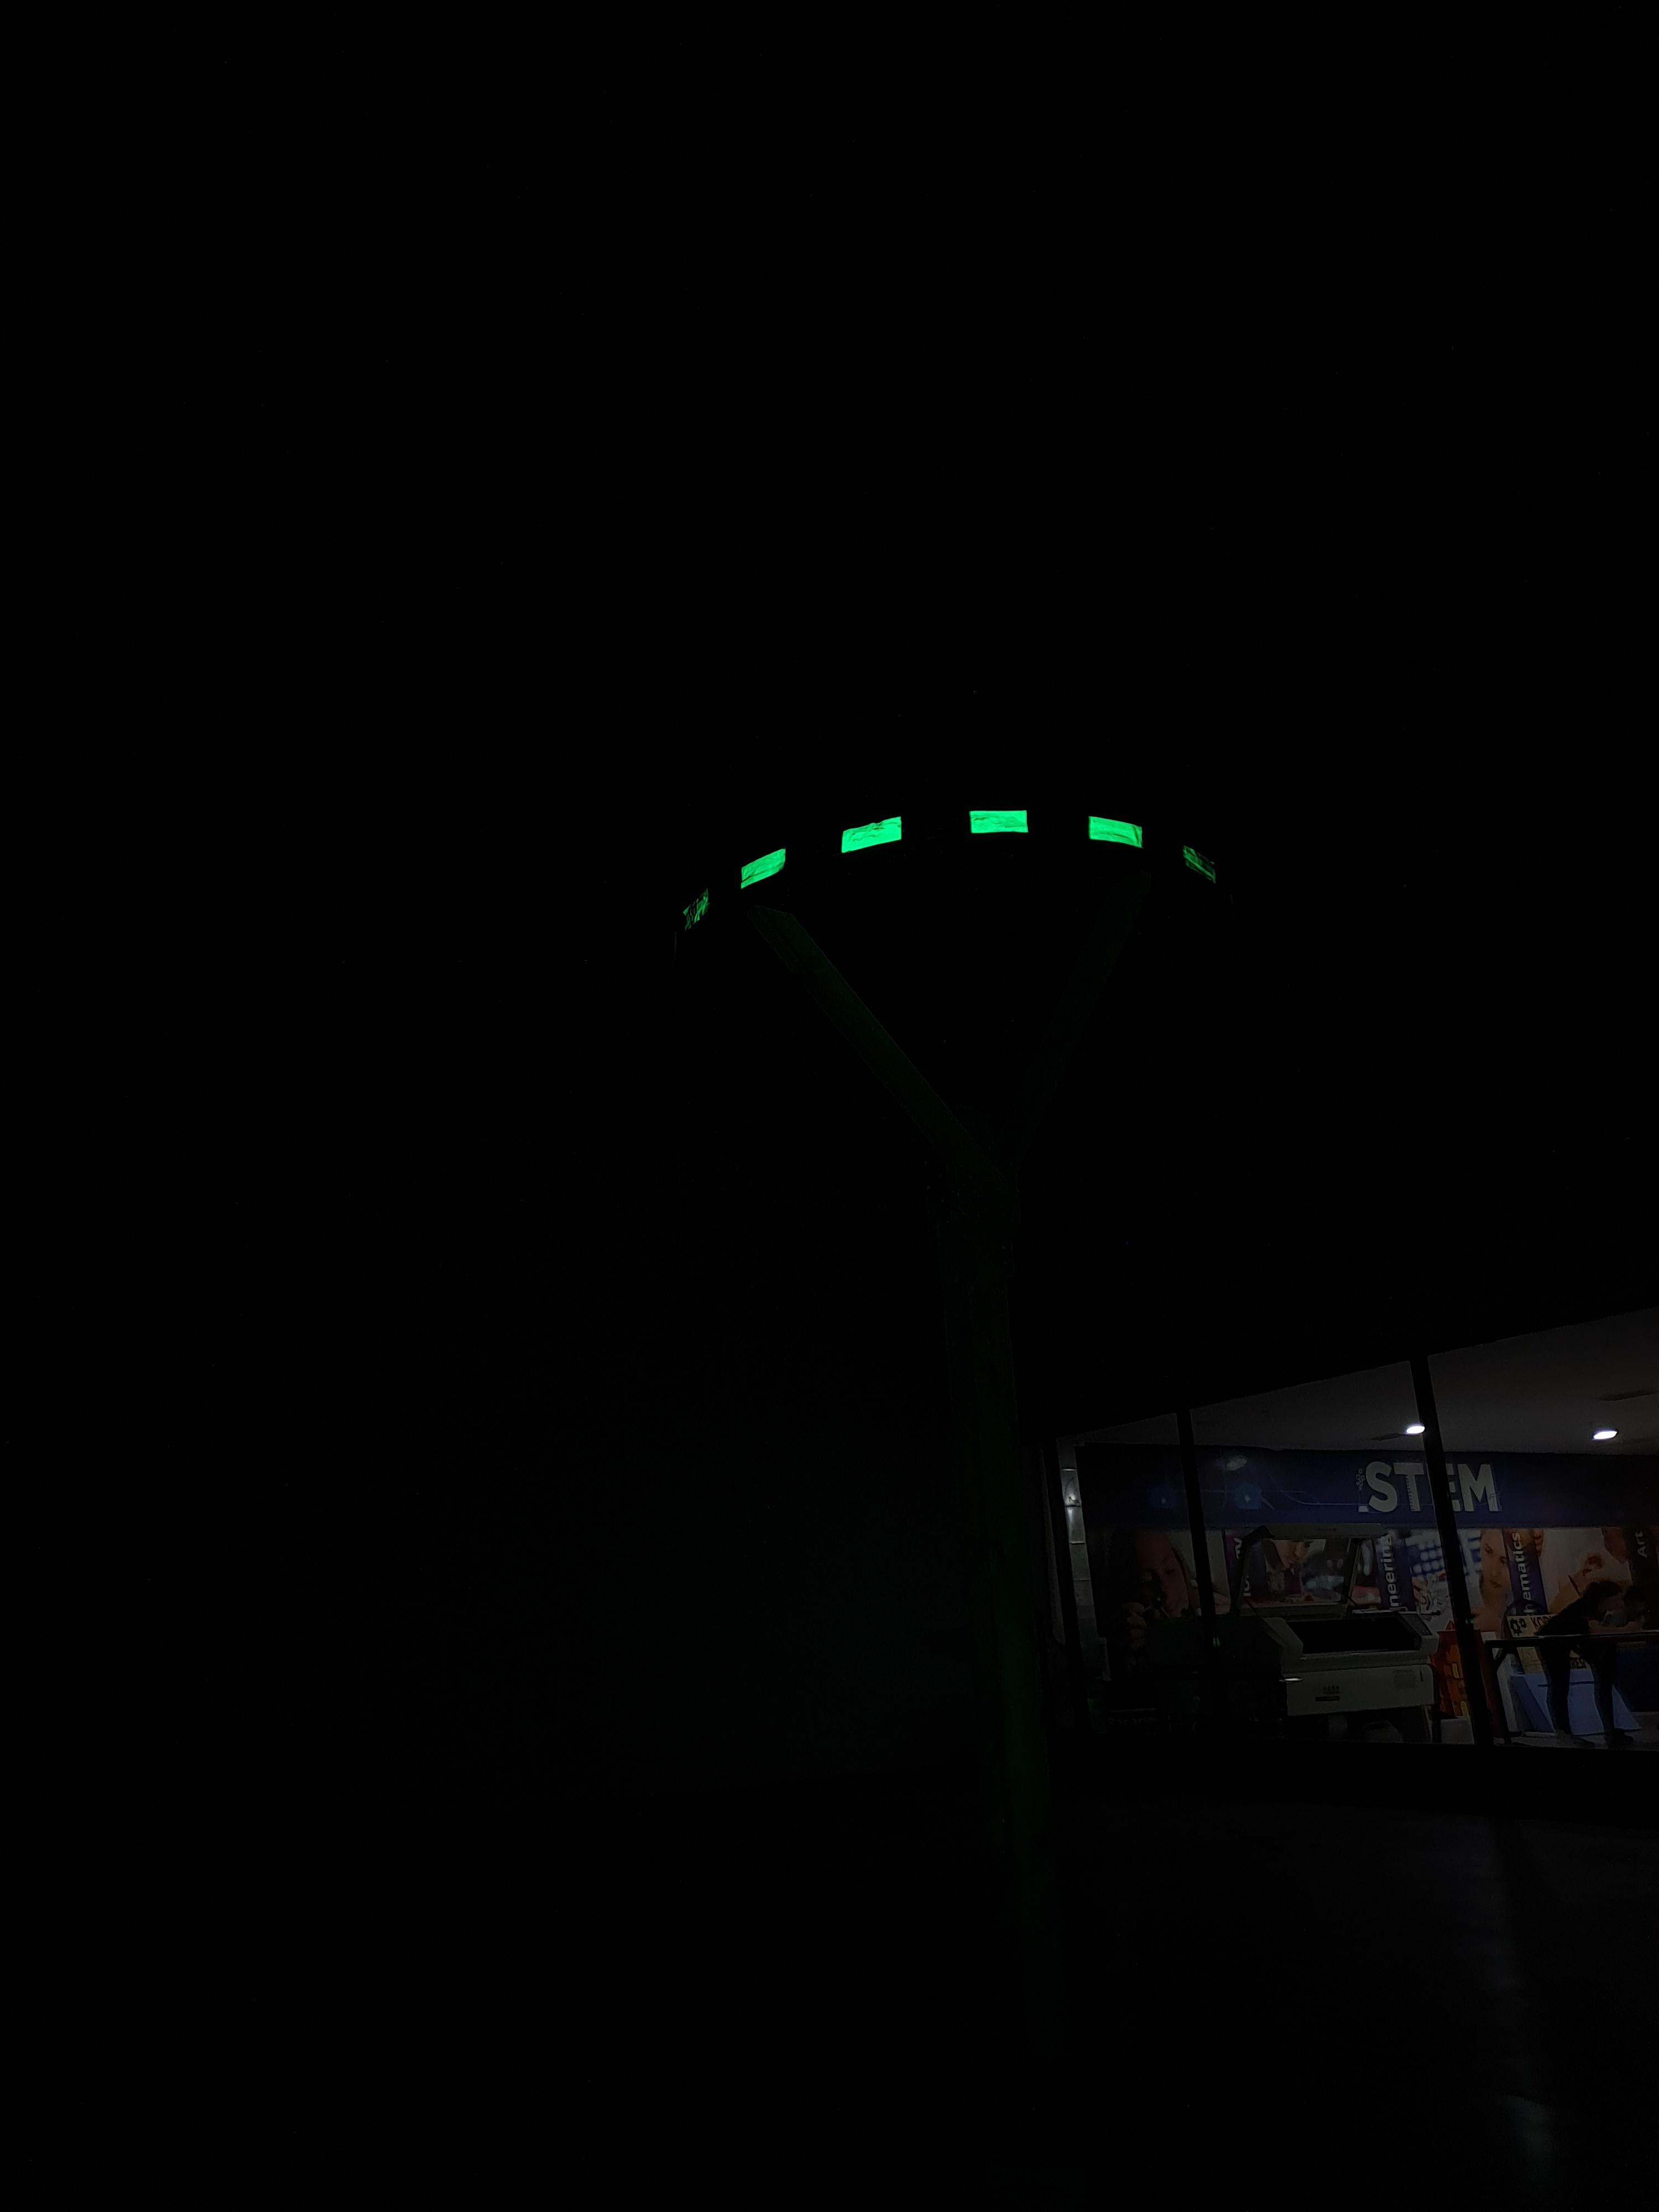hoop: (680, 806, 1220, 932)
